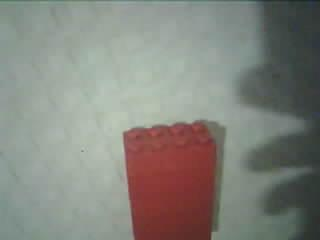lego: (122, 120, 217, 240)
